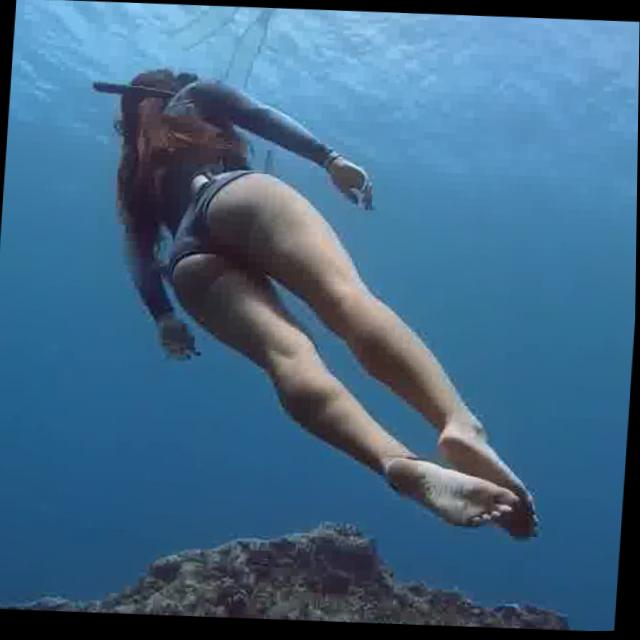human: (65, 45, 580, 566)
